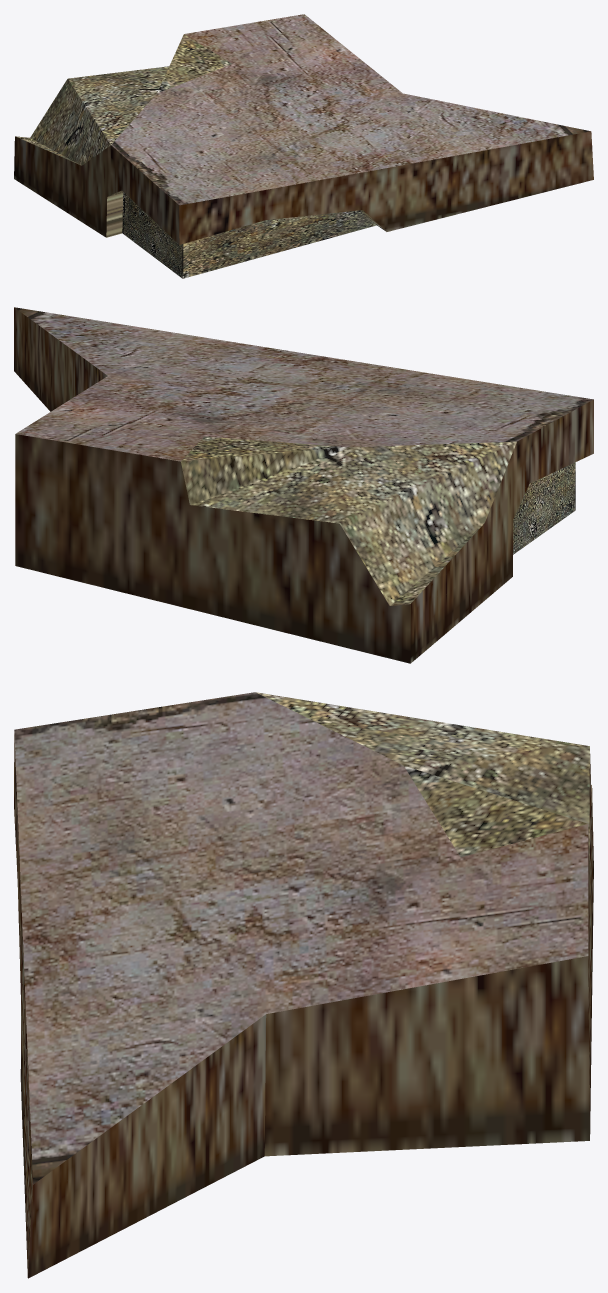
Rendered from medium_rubble_var2.fbx.
The picture shows the model from 3 angles, top to bottom: view 1: azimuth 30°, elevation 25°; view 2: azimuth 150°, elevation 25°; view 3: azimuth 270°, elevation 25°; orthographic projection. The views are drawn at different scales.
Visible parts, largest first — view 1: mesh_1, mesh_2, mesh_0; view 2: mesh_2, mesh_1, mesh_0; view 3: mesh_1, mesh_2, mesh_0.
Part boxes in pixels (x1,y1,x2,y2): mesh_1: [111, 14, 590, 205]; mesh_2: [14, 131, 593, 244]; mesh_0: [15, 34, 384, 278]; mesh_2: [14, 307, 593, 663]; mesh_1: [14, 307, 593, 461]; mesh_0: [181, 436, 575, 605]; mesh_1: [14, 692, 588, 1184]; mesh_2: [14, 735, 593, 1278]; mesh_0: [256, 692, 591, 863].
Size of the model in its own units: 76.32 by 17.65 by 45.51.
Materials: 3 (3 with a texture image).
